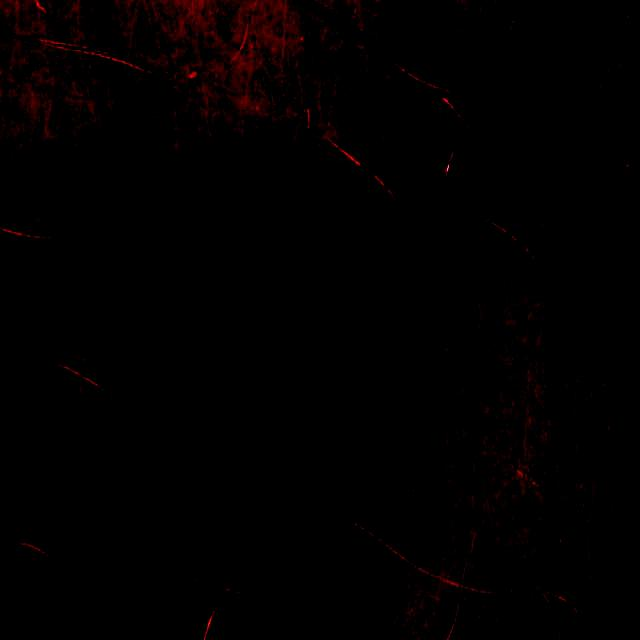BCC: (130, 168, 461, 547)
